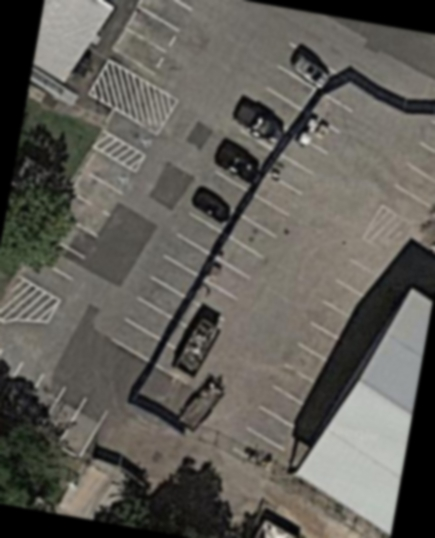parkingspot: (107, 40, 358, 367), (229, 254, 396, 477), (189, 134, 333, 325), (16, 147, 139, 305), (0, 345, 112, 461), (108, 0, 204, 82), (379, 117, 435, 232), (101, 107, 163, 159)
